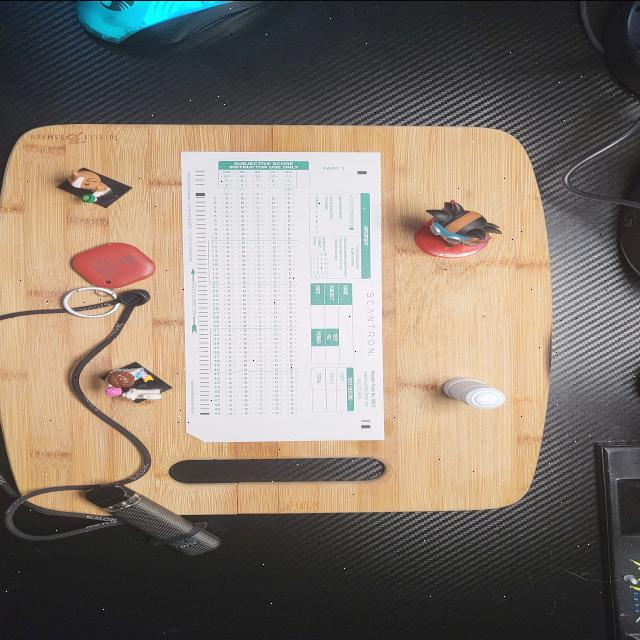scantron: (180, 151, 385, 441)
